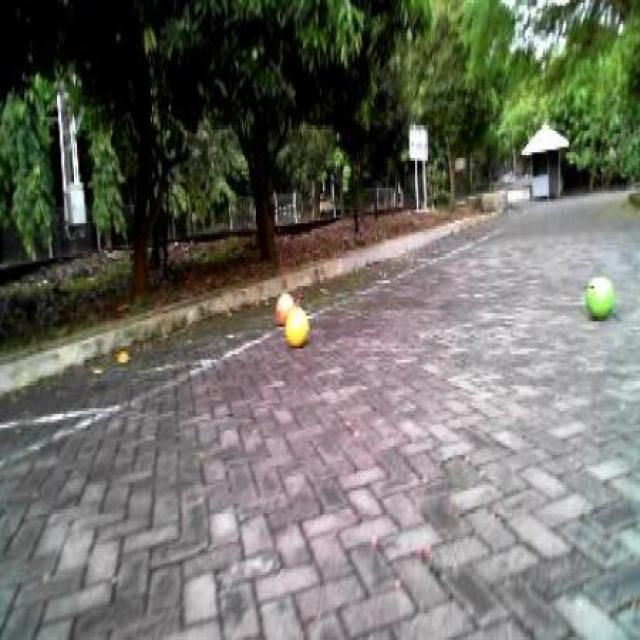buoy: (580, 270, 618, 326), (282, 303, 312, 353), (272, 290, 300, 334)
